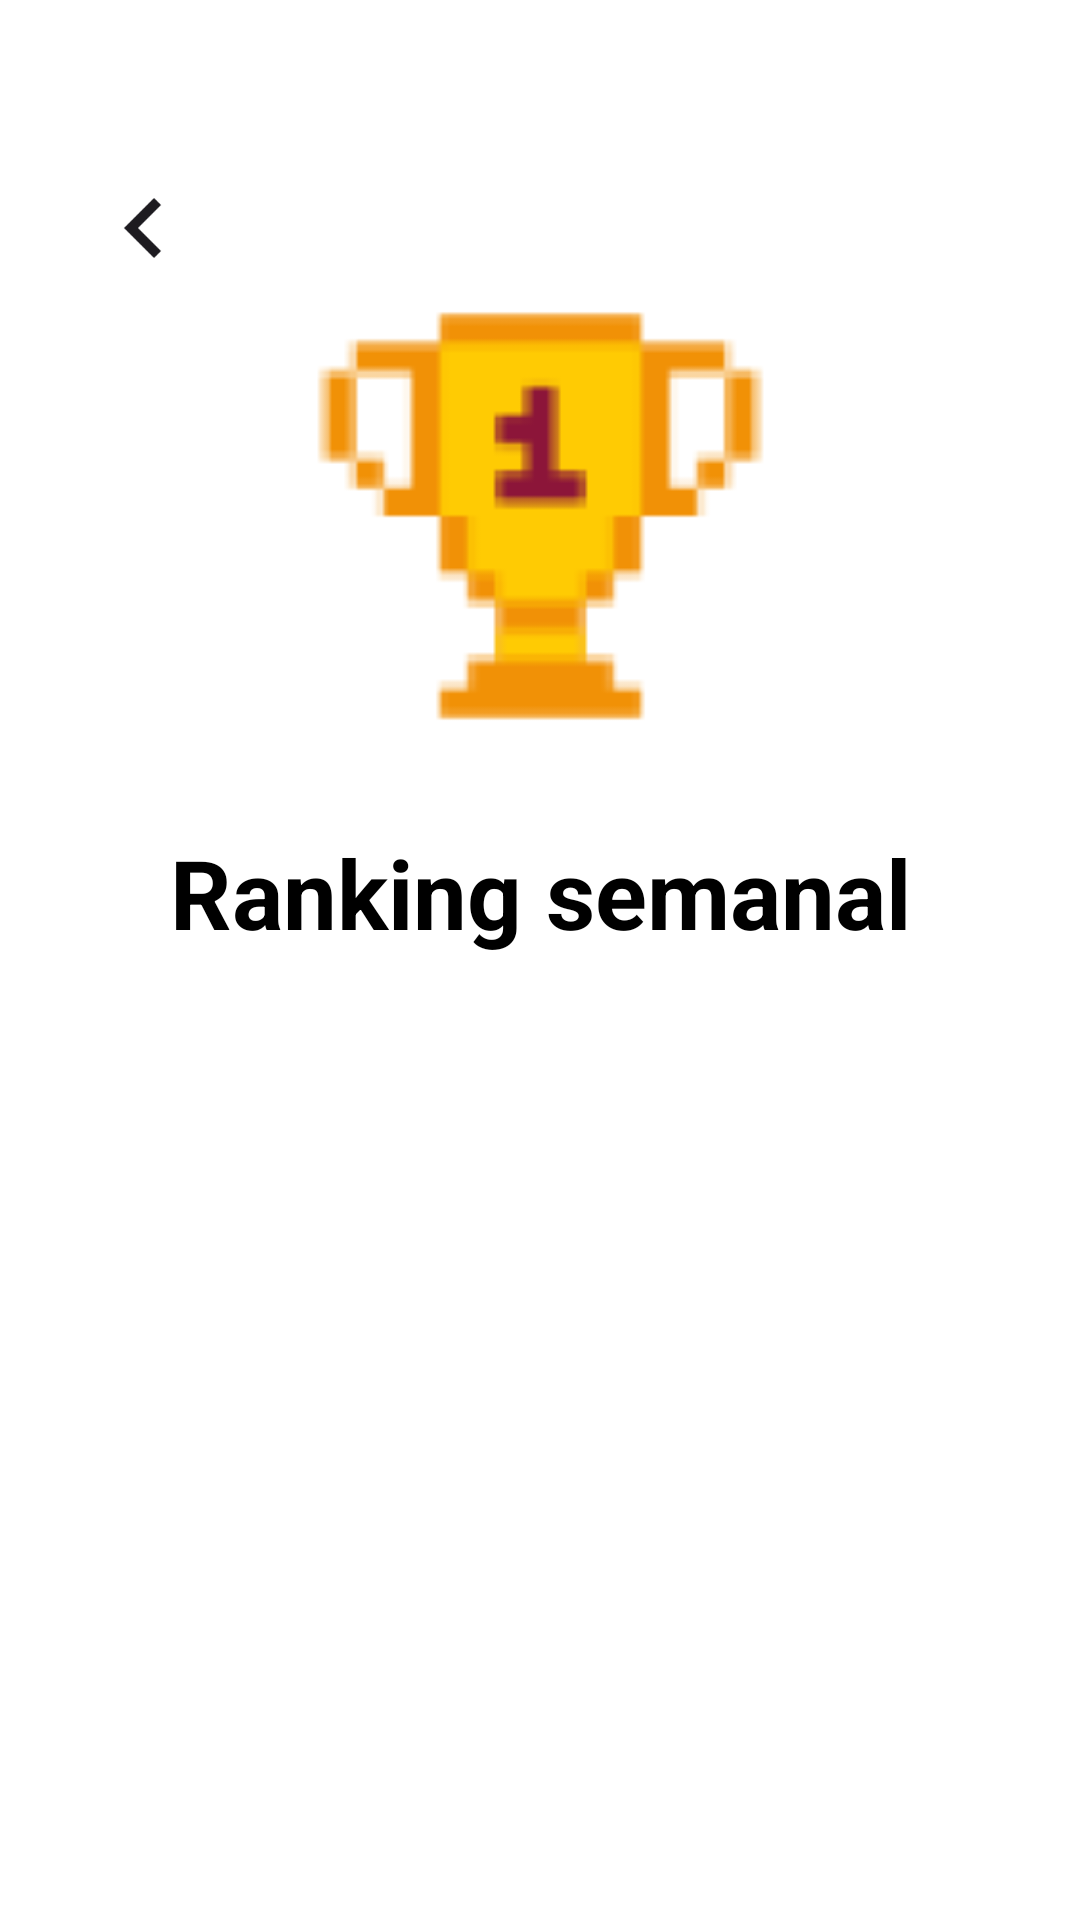

Locate icon controls on the screen. Image size 1080*1920, boxes as (x1, y1, x2, y2).
Retroceder: (124, 198, 161, 258)
